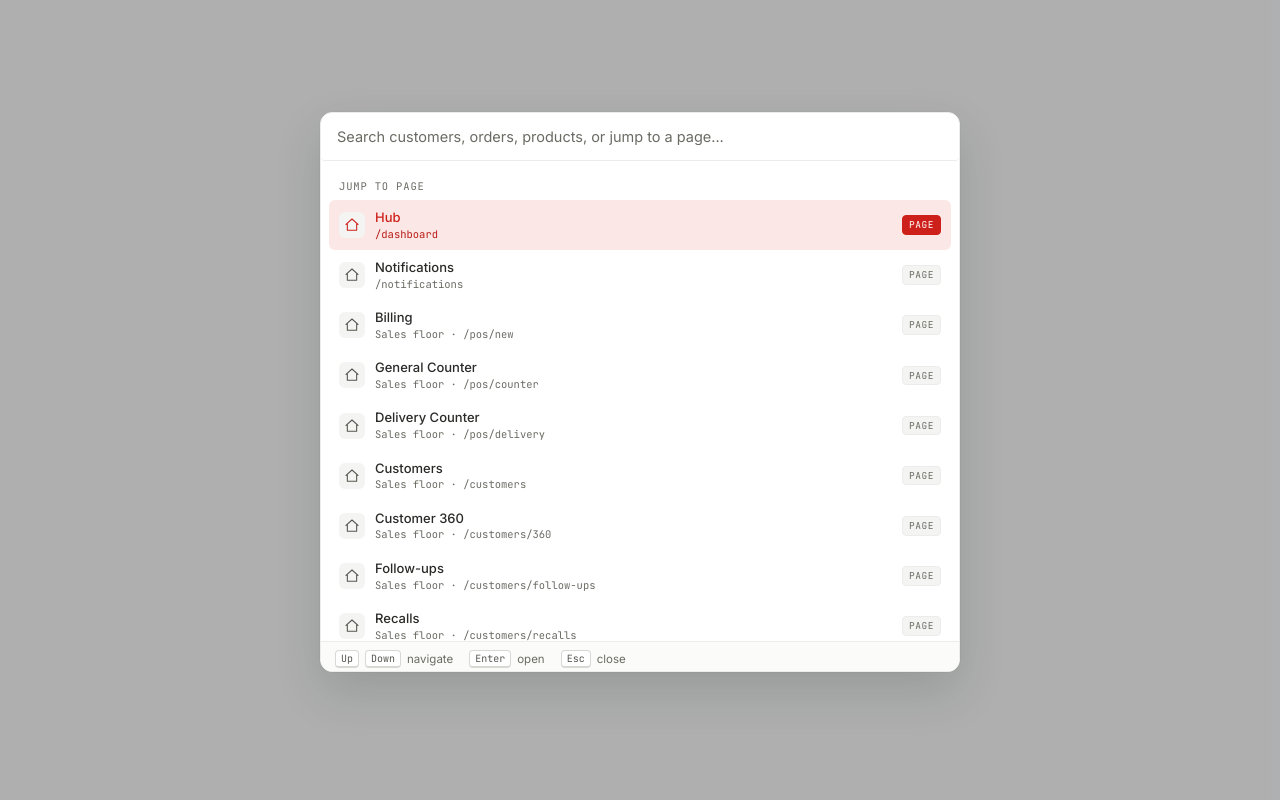
Test: CommandPalette - pages moved off the menu › SUPERADMIN finds Online Stock
The width and height of the screenshot is (1280, 800).
In the dropdown: (640, 137) [321,113,959,161], type "online stock"
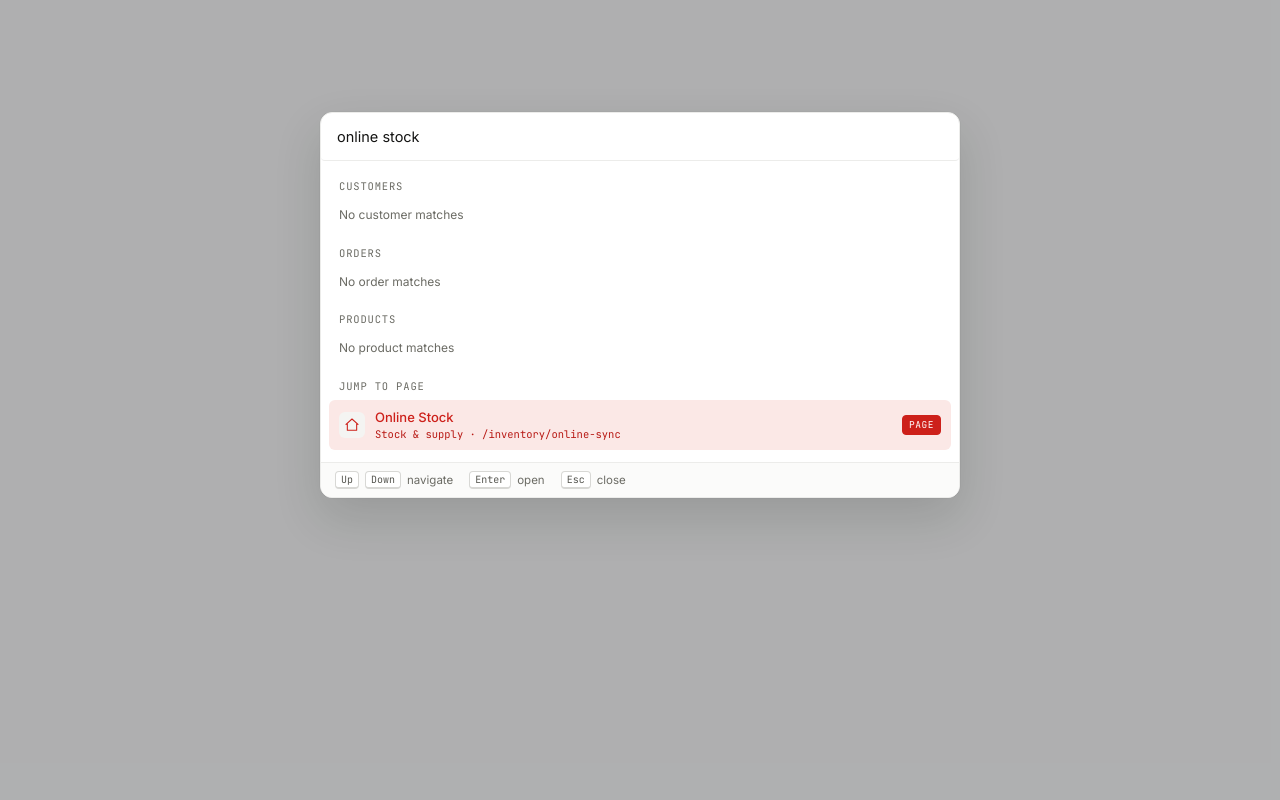
Expected: the text "/inventory/online-sync" is shown, [482,427,621,441]
